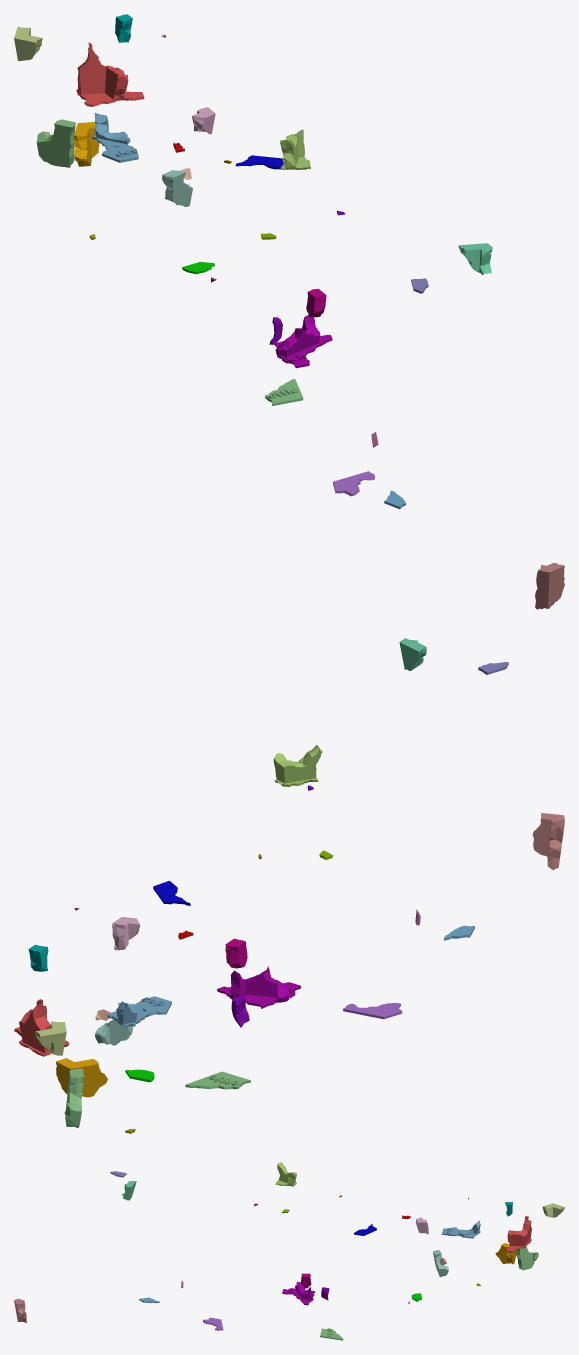
The model's file is fractured_19_29pcs_transformed.glb.
3 renders of one model, top to bottom at view 1: azimuth 30°, elevation 25°; view 2: azimuth 150°, elevation 25°; view 3: azimuth 270°, elevation 25°, orthographic. The views are drawn at different scales.
Visible parts, largest first — view 1: piece_1.obj, piece_2.obj, piece_11.obj, piece_10.obj, piece_9.obj, piece_0.obj, piece_6.obj, piece_12.obj, piece_3.obj; view 2: piece_2.obj, piece_9.obj, piece_6.obj, piece_0.obj, piece_1.obj, piece_10.obj, piece_11.obj, piece_8.obj, piece_13.obj, piece_12.obj, piece_14.obj, piece_3.obj (+1 smaller); view 3: piece_1.obj, piece_2.obj, piece_11.obj, piece_10.obj, piece_6.obj, piece_0.obj, piece_9.obj, piece_12.obj, piece_13.obj.
Part boxes in pixels (x1,y1,x2,y2): piece_1.obj: [76, 42, 144, 106]; piece_2.obj: [273, 315, 332, 368]; piece_11.obj: [36, 119, 75, 167]; piece_10.obj: [92, 113, 138, 162]; piece_9.obj: [535, 563, 564, 609]; piece_0.obj: [74, 122, 99, 166]; piece_6.obj: [280, 129, 310, 169]; piece_12.obj: [162, 170, 192, 206]; piece_3.obj: [458, 243, 492, 274]; piece_2.obj: [217, 966, 300, 1008]; piece_9.obj: [532, 813, 564, 869]; piece_6.obj: [273, 745, 322, 786]; piece_0.obj: [56, 1058, 107, 1097]; piece_1.obj: [14, 999, 69, 1056]; piece_10.obj: [107, 996, 171, 1027]; piece_11.obj: [64, 1068, 84, 1128]; piece_8.obj: [185, 1071, 250, 1089]; piece_13.obj: [35, 1021, 66, 1055]; piece_12.obj: [95, 1002, 135, 1045]; piece_14.obj: [112, 917, 140, 950]; piece_3.obj: [399, 638, 426, 670]; piece_1.obj: [506, 1216, 531, 1252]; piece_2.obj: [282, 1282, 315, 1305]; piece_11.obj: [516, 1246, 538, 1270]; piece_10.obj: [442, 1220, 480, 1238]; piece_6.obj: [275, 1162, 296, 1186]; piece_0.obj: [495, 1243, 516, 1264]; piece_9.obj: [14, 1298, 26, 1322]; piece_12.obj: [433, 1250, 448, 1277]; piece_13.obj: [542, 1203, 564, 1217].
Bounding box in the file's own units: 1 × 2.68 × 8.35.
